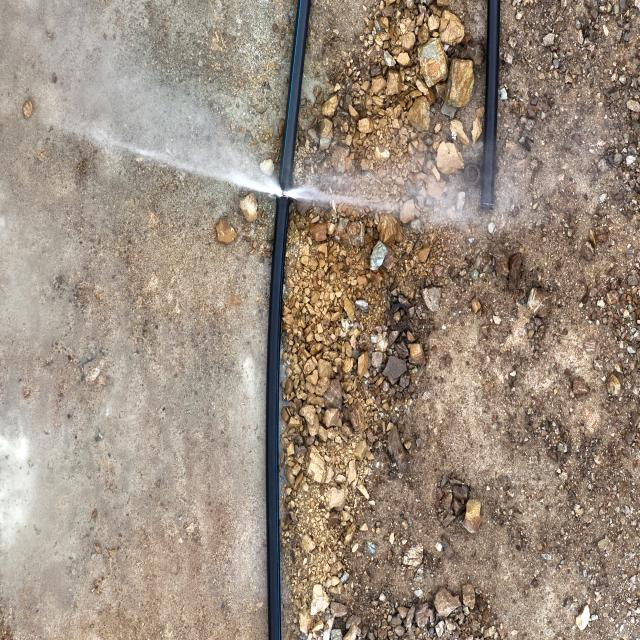leak: (42, 53, 593, 239)
